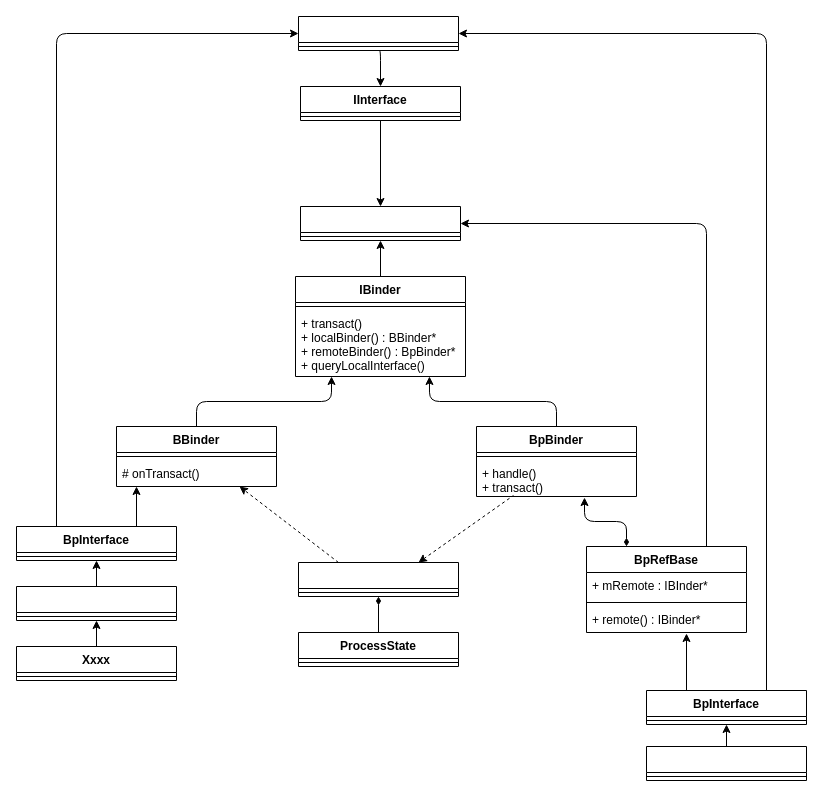
Some shapes in this 823 by 797 pixel diagram are drawn without their labels. The centre of each missing label's shape, as x and y in pixels:
"BnXxxx" goes at point 96,603.
"BpXxxx" goes at point 726,763.
"IPCThreadState" goes at point 378,579.
"IXxxx" goes at point 378,33.
"RefBase" goes at point 380,223.
